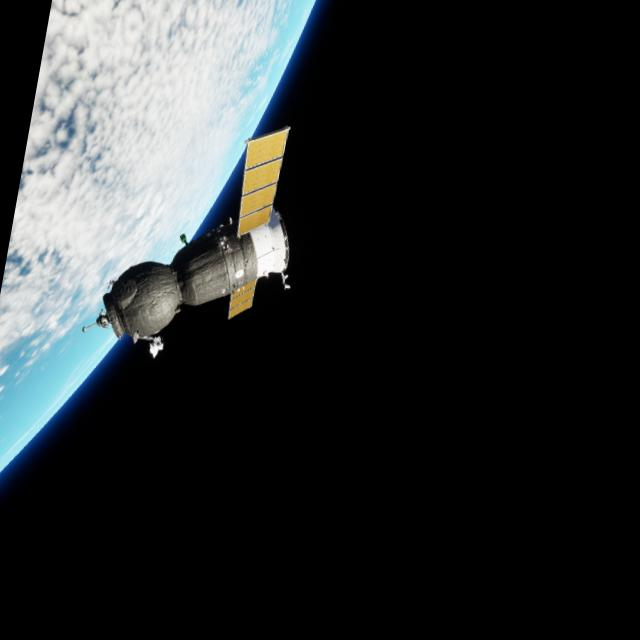Satellites revolving around earth: (76, 93, 319, 380)
